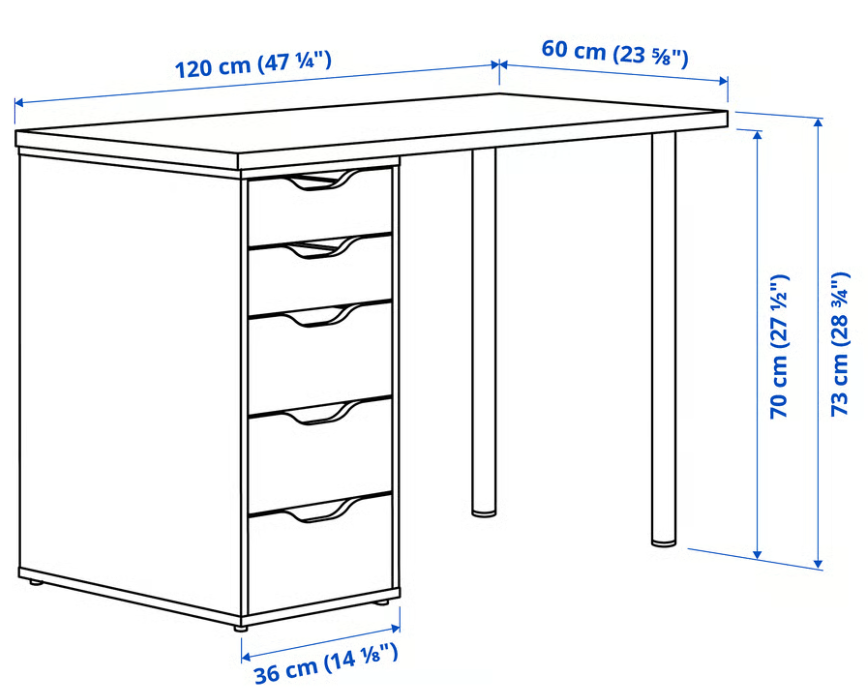table_drawer: (248, 493, 392, 614), (248, 398, 392, 516), (248, 302, 392, 416), (248, 235, 392, 317), (248, 167, 392, 247)
table_legs: (19, 568, 400, 627), (652, 132, 676, 545), (472, 149, 495, 516)
table_support: (19, 147, 241, 616)
table_top: (16, 93, 728, 170)
